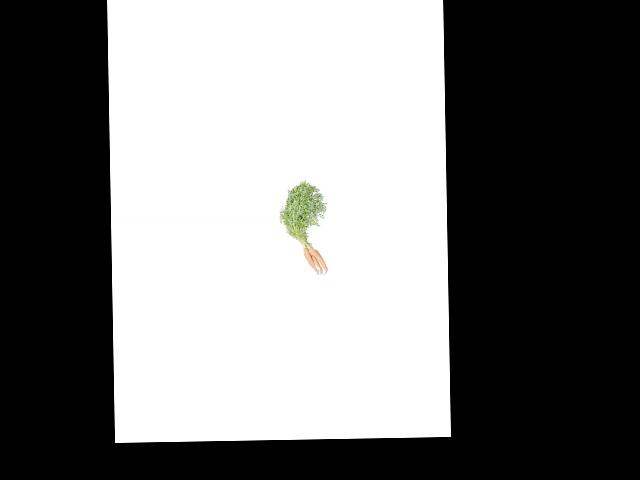carrot: (309, 244, 328, 270)
